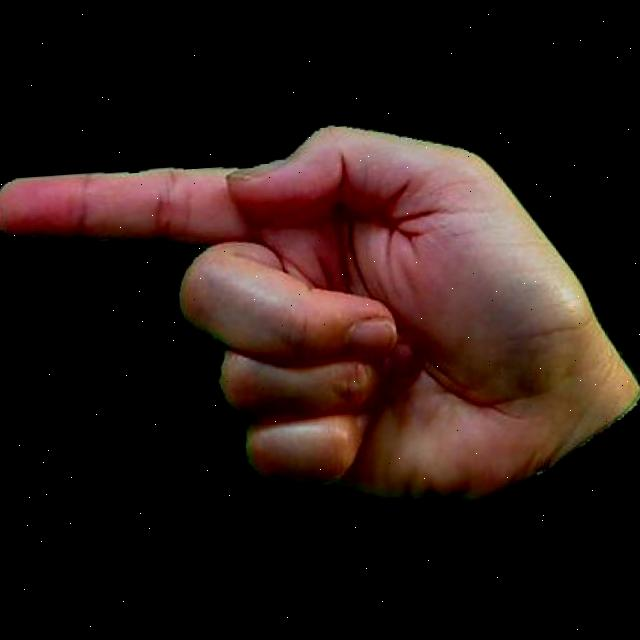g: (0, 78, 640, 532)
